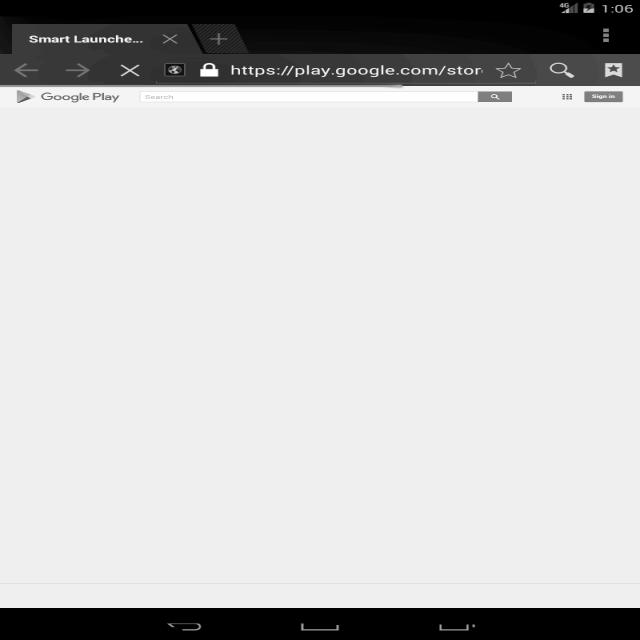Button: (580, 88, 629, 104)
